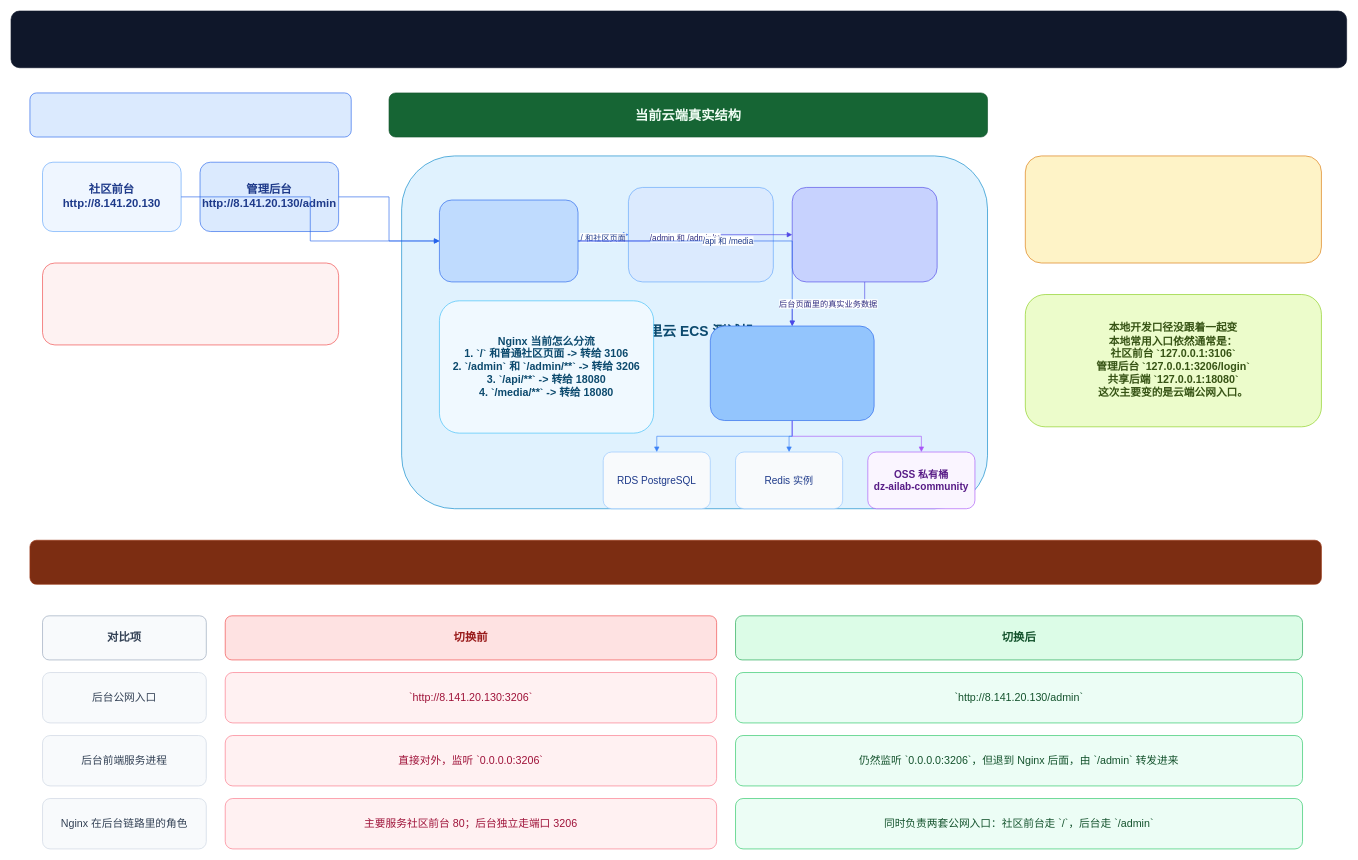
This 1358x860 diagram has some shape labels left out. Each missing label, with the centre of its shape:
"Nginx 监听 80 统一接所有公网 HTTP 请求" belongs at [508,240].
"你现在在浏览器里应该记的地址" belongs at [190,114].
"共享后端服务 dramatv-community-server /opt/dramatv-community-server 127.0.0.1:18080" belongs at [792,373].
"切换到 80 之后的当前云端部署图 目标：把“现在后台怎么进、服务器里到底怎么转、和切换前相比变了什么”一次讲清楚" belongs at [678,39].
"切换前 vs 切换后，对比着看" belongs at [675,562].
"最重要的一句 现在“后台走 80”说的是公网入口。 不是说后台服务进程自己改成直接监听 80。" belongs at [190,303].
"社区前端服务 dramatv-community-web /opt/dramatv-community-web 127.0.0.1:3106" belongs at [700,234].
"管理后台前端服务 dramatv-community-admin /opt/dramatv-community-admin 0.0.0.0:3206" belongs at [864,234].
"这里最容易误解 后台对外地址已经不是 `:3206`，但后台前端服务进程并没有消失。 它只是退到 Nginx 后面，继续在 `3206` 提供页面。" belongs at [1173,209].
